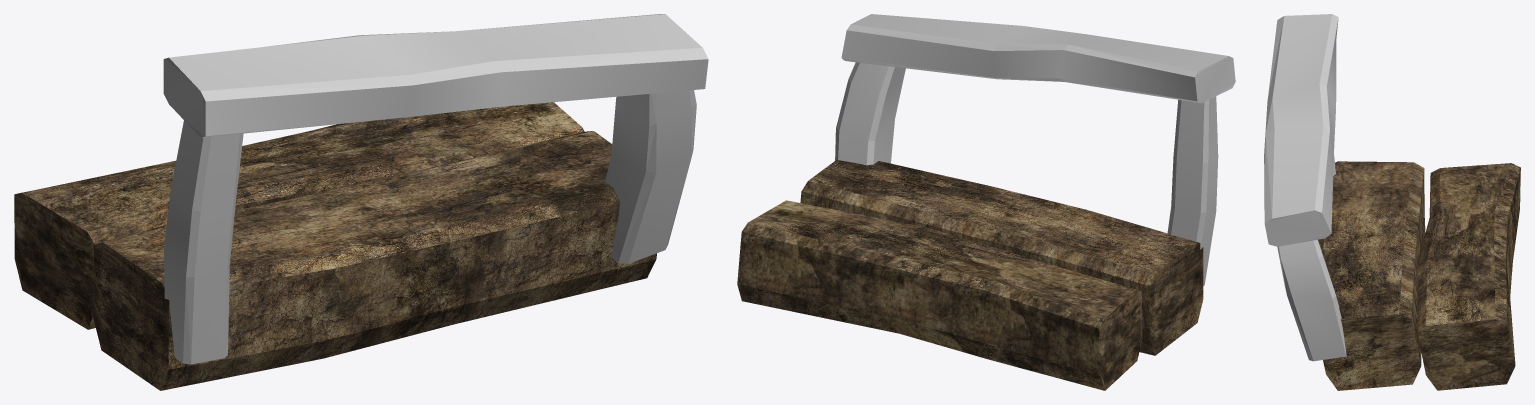
File: MovingPlatform002.FBX
3 renders of one model, left to right at view 1: azimuth 30°, elevation 25°; view 2: azimuth 150°, elevation 25°; view 3: azimuth 270°, elevation 25°, orthographic. The views are drawn at different scales.
Visible parts, largest first — view 1: MovingPlatform002; view 2: MovingPlatform002; view 3: MovingPlatform002.
Boxes of the visible parts, box(x1,y1,x2,y2) form: MovingPlatform002: box(14, 14, 708, 390); MovingPlatform002: box(737, 14, 1235, 390); MovingPlatform002: box(1264, 14, 1520, 390).
Size of the model in its own units: 12.3 by 7.96 by 8.3.
